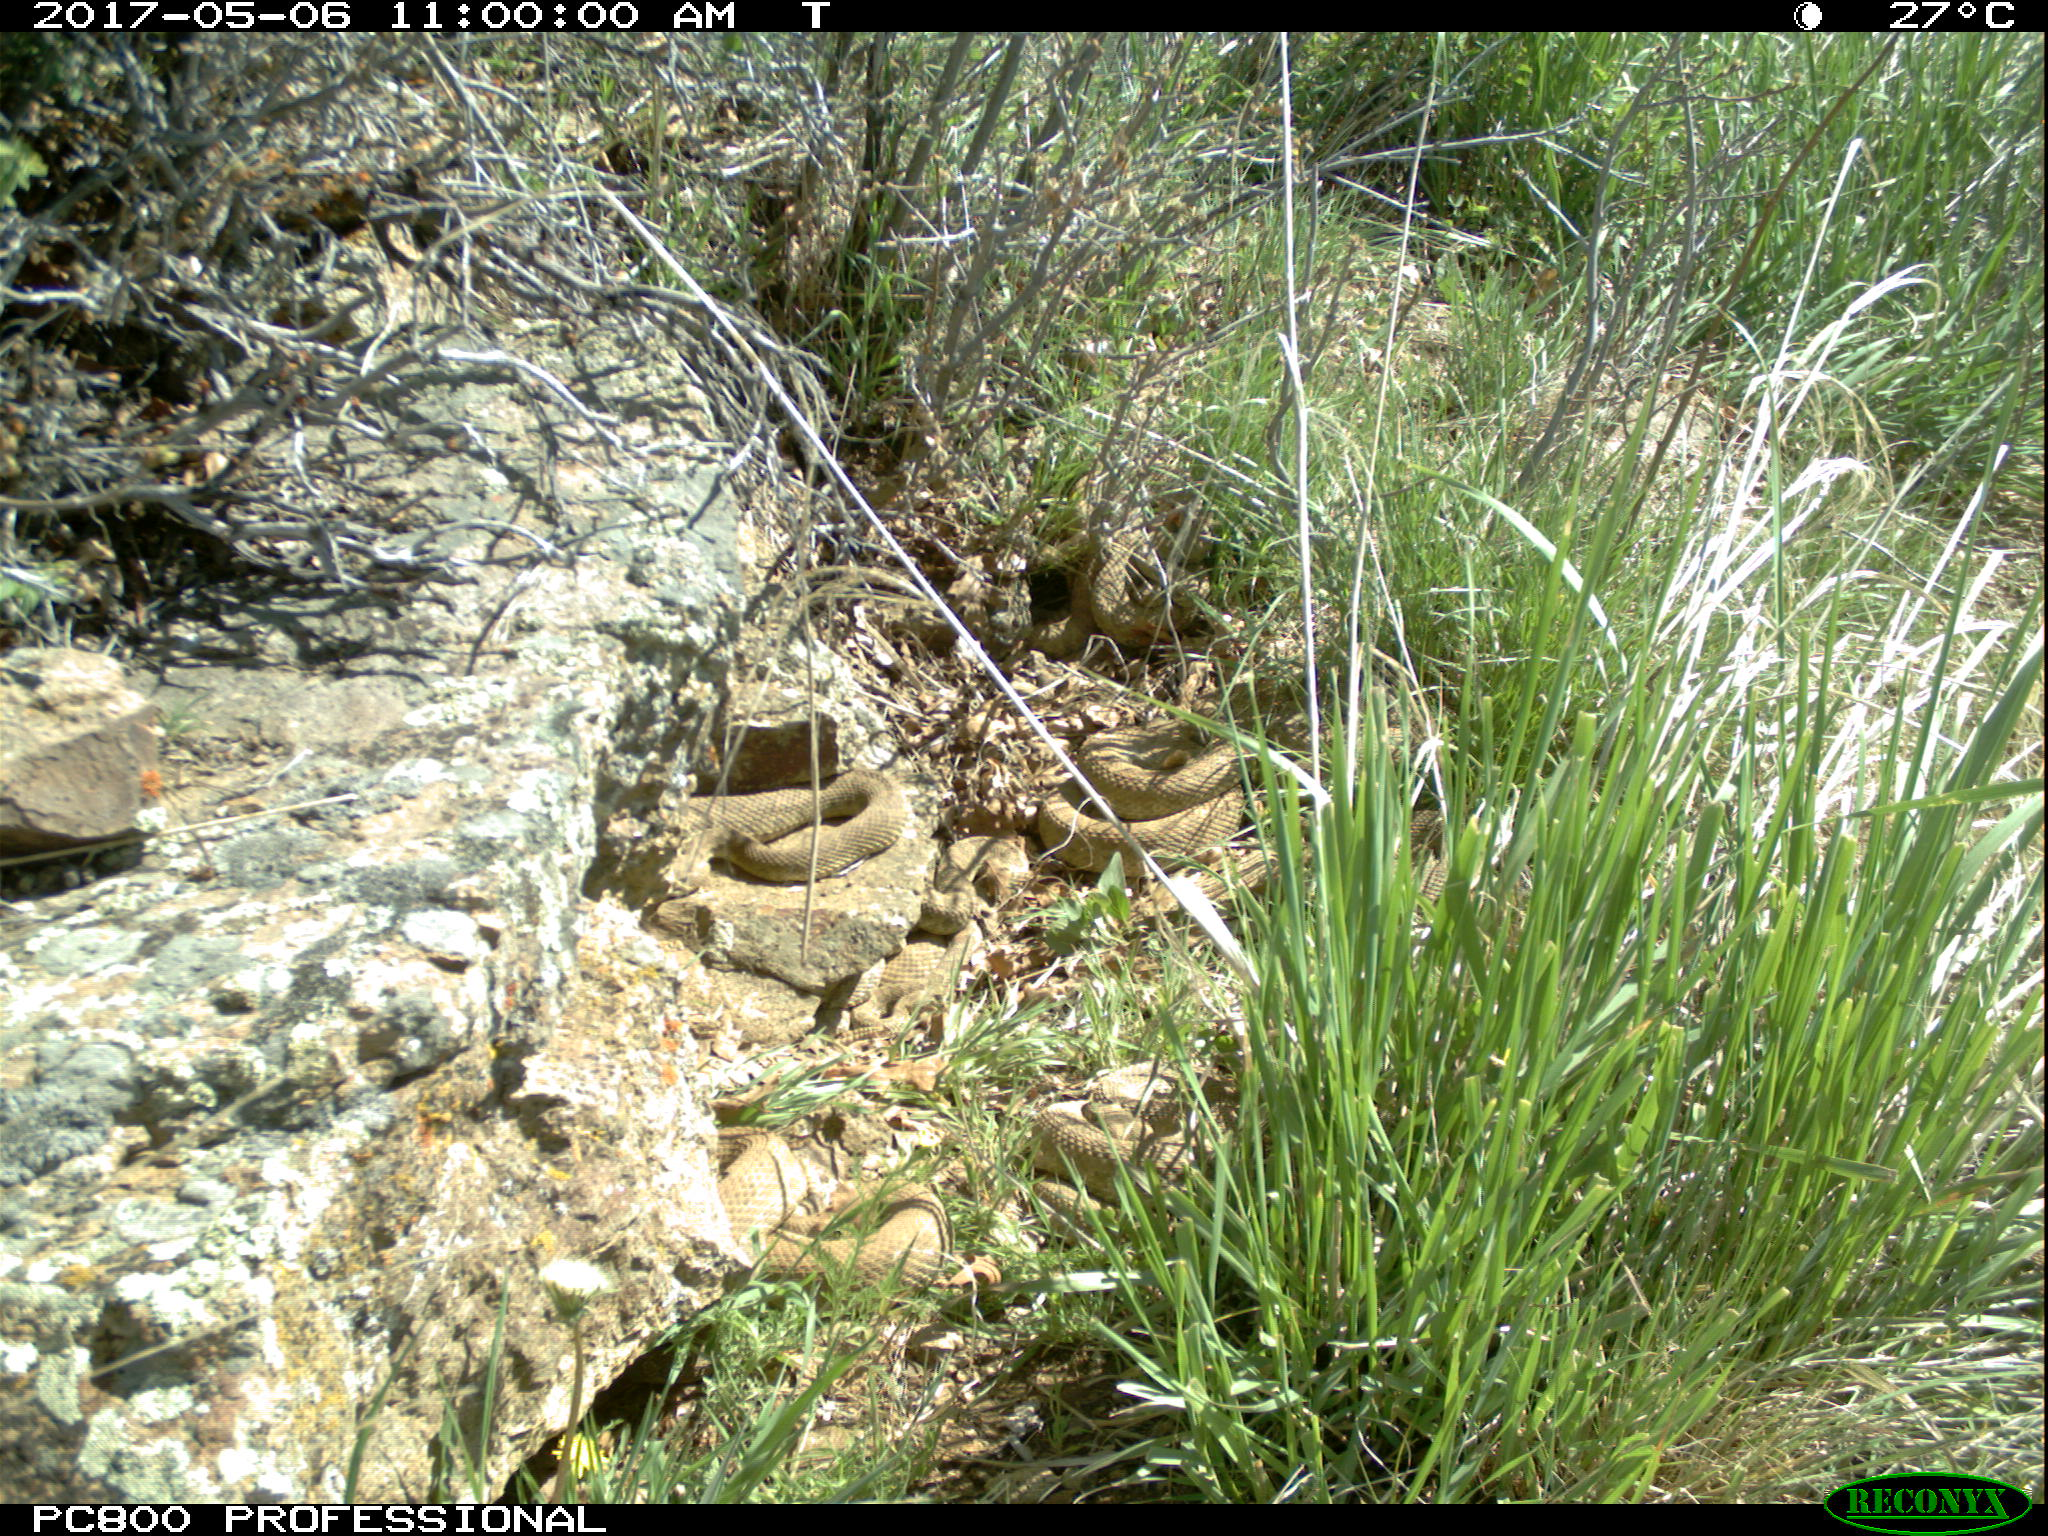snake: (706, 1120, 953, 1305), (1040, 728, 1258, 879), (692, 770, 935, 878), (1026, 547, 1235, 645), (1024, 1083, 1214, 1191), (863, 937, 1047, 1041)
